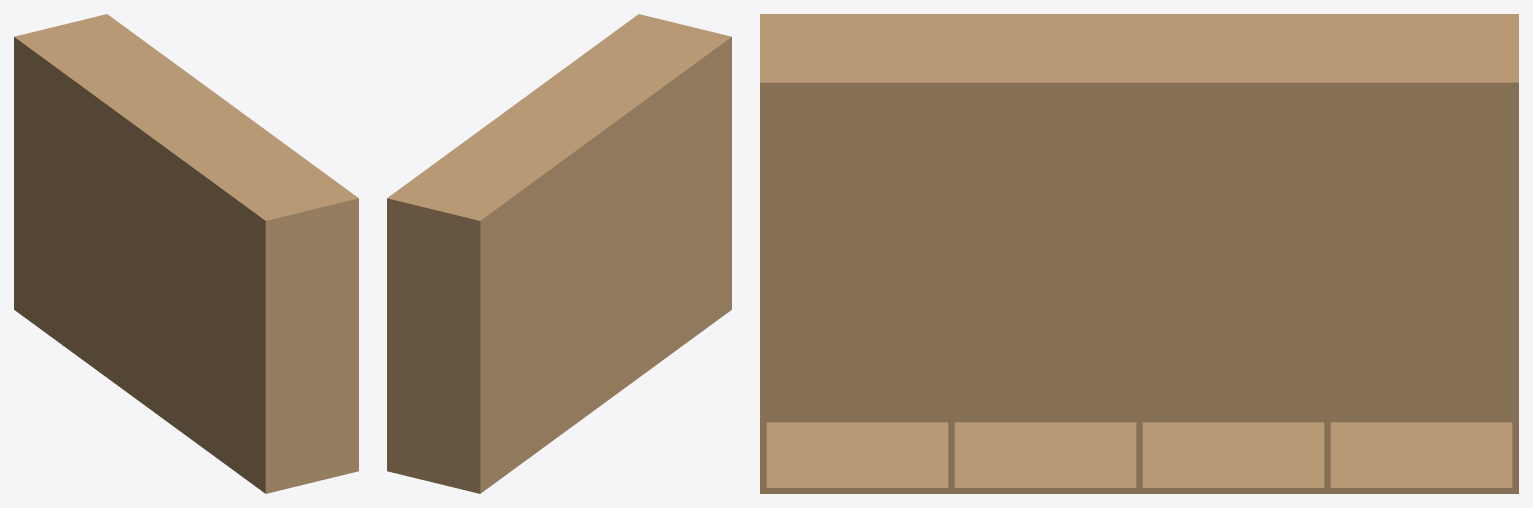
The model's file is nil_link_mesh.dae.
3 views of the same model, side by side, from view 1: azimuth 30°, elevation 25°; view 2: azimuth 150°, elevation 25°; view 3: azimuth 270°, elevation 25° (orthographic). The views are drawn at different scales.
Parts seen in each view (by area): view 1: nil_link (×5); view 2: nil_link (×5); view 3: nil_link (×8).
Part boxes in pixels (box(x1,y1,x2,y2)): nil_link (×5): box(14, 14, 358, 493); nil_link (×5): box(387, 14, 731, 493); nil_link (×8): box(760, 14, 1518, 493).
Bounding box in the file's own units: 0.25 × 0.7 × 1.17.
